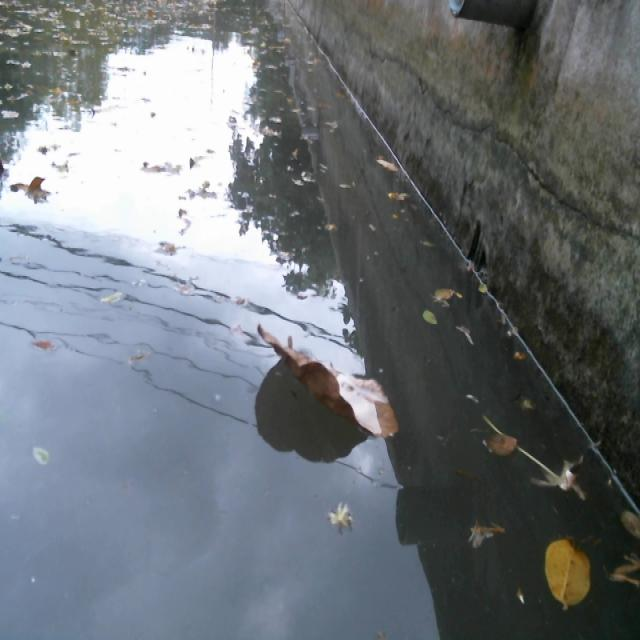Big-leaf: (251, 317, 405, 447)
Small-leaf: (534, 532, 598, 617), (479, 431, 525, 458), (371, 152, 406, 184), (614, 504, 640, 544), (92, 287, 131, 308), (379, 182, 412, 206), (31, 436, 54, 470), (420, 301, 442, 336), (154, 239, 188, 259), (429, 284, 462, 304), (32, 336, 64, 354), (505, 346, 524, 362)
